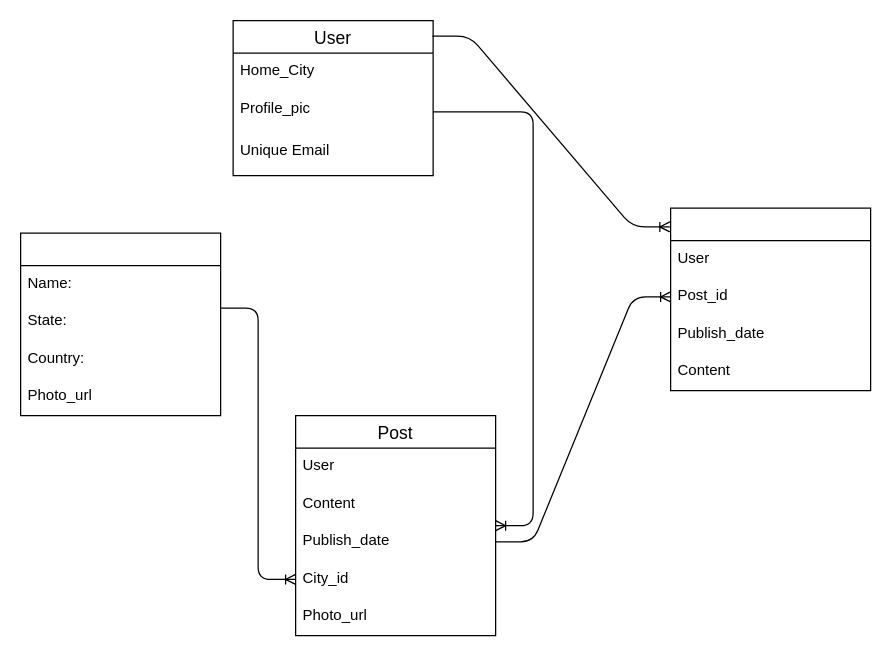
Some shapes in this 891 by 656 pixel diagram are drawn without their labels. Each missing label, with the box of its shape:
City: (19, 232, 221, 416)
Comments: (669, 207, 871, 391)
